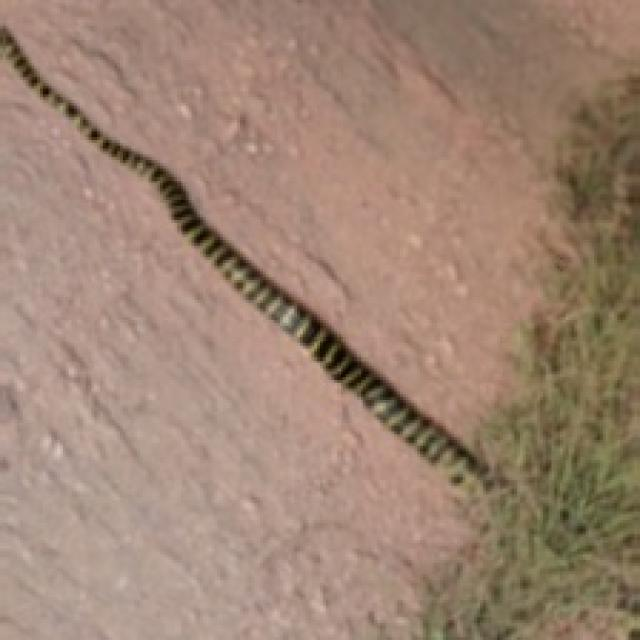mangrove cat snake: (0, 26, 494, 489)
